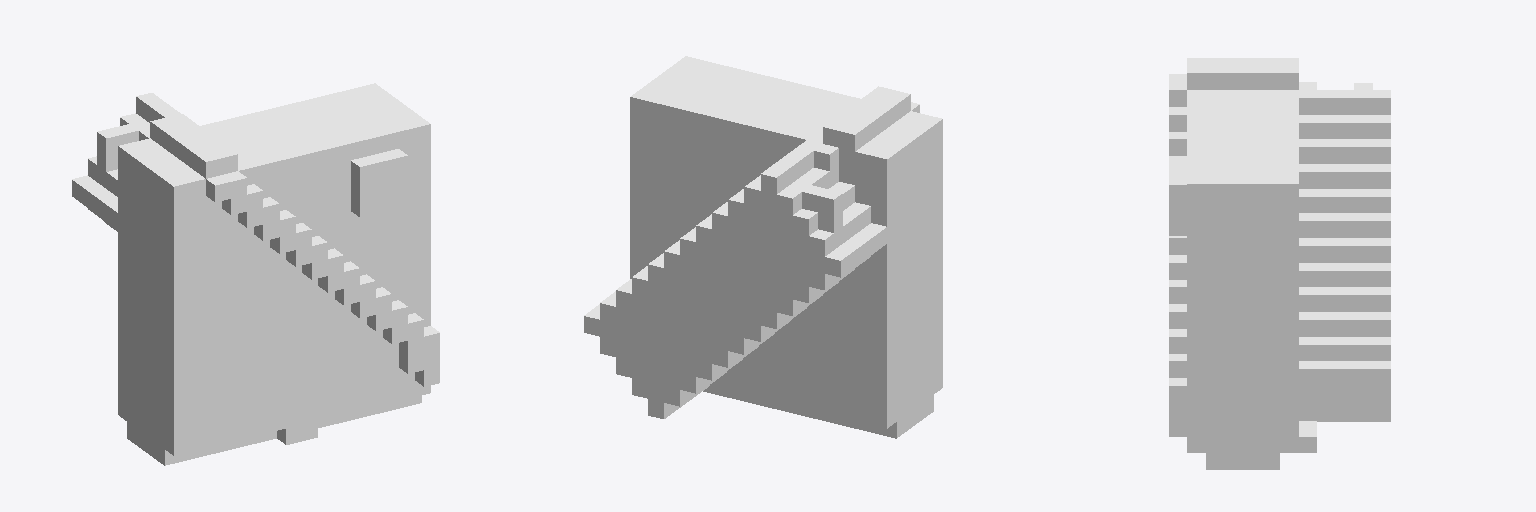
The model's file is TSNEnemy-5.obj.
3 renders of one model, left to right at view 1: azimuth 30°, elevation 25°; view 2: azimuth 150°, elevation 25°; view 3: azimuth 270°, elevation 25°, orthographic.
Visible parts, largest first — view 1: object 1; view 2: object 1; view 3: object 1.
Part boxes in pixels (left/top/right/bottom): object 1: left=72, top=83, right=439, bottom=465; object 1: left=584, top=56, right=942, bottom=438; object 1: left=1169, top=58, right=1390, bottom=469.
Bounding box in the file's own units: 1.6 × 1.8 × 1.2.